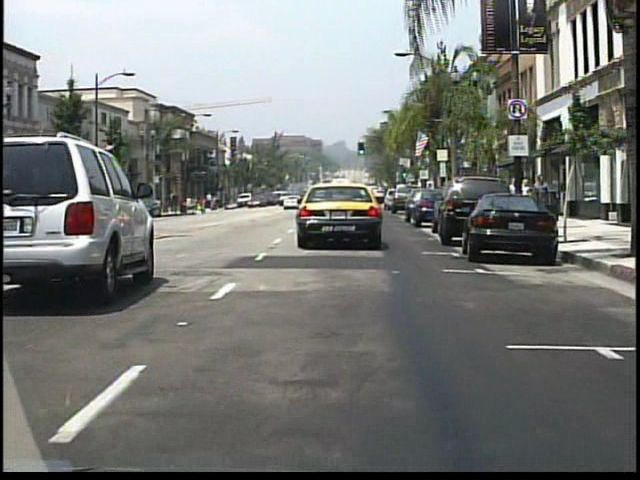person: (530, 171, 550, 224), (518, 178, 532, 216), (217, 194, 224, 211)
